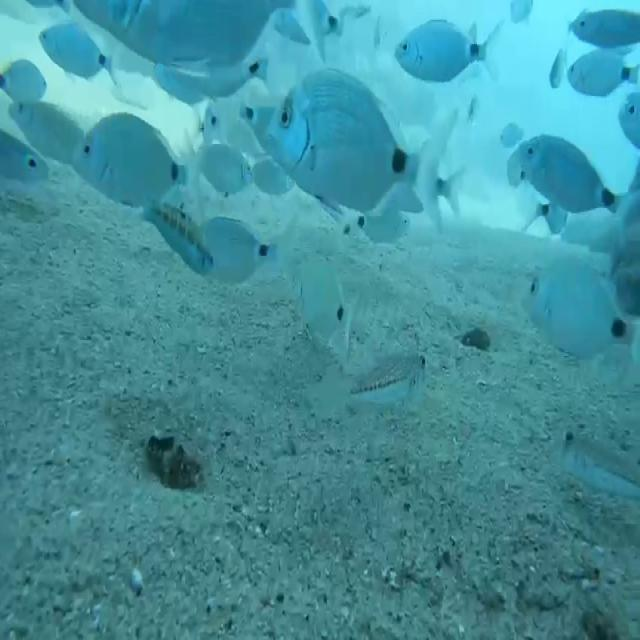Balon Baligi: (556, 430, 640, 497), (143, 198, 215, 275), (348, 353, 427, 405)
